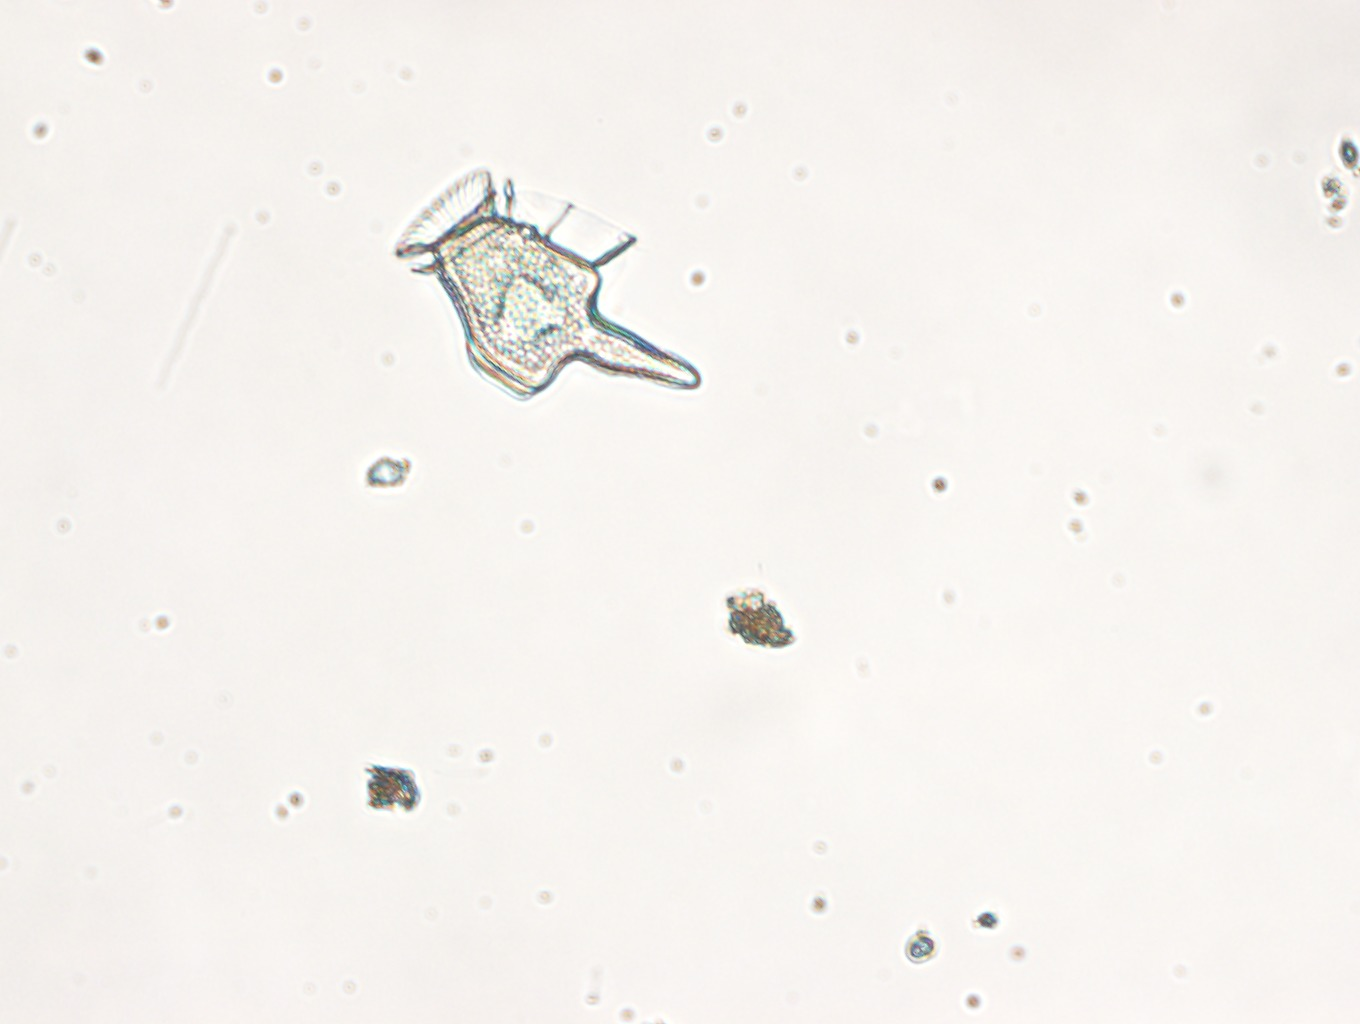dinophysis caudata: (393, 167, 701, 401)
